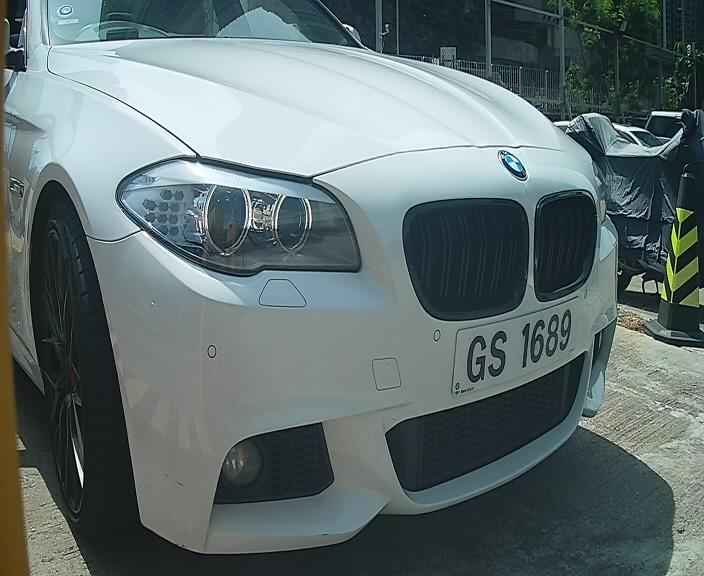Car: (1, 3, 632, 574)
License Plate: (444, 291, 585, 415)
